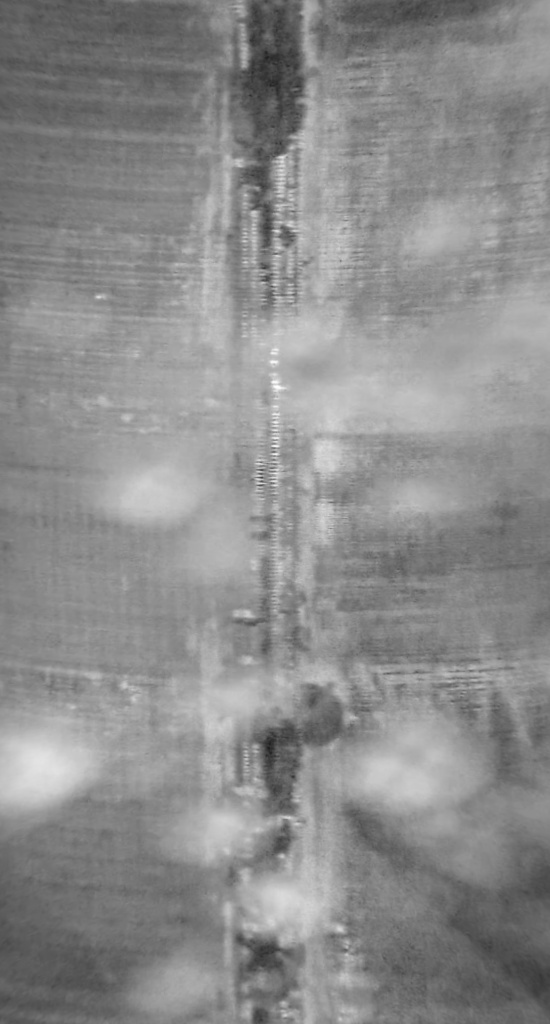splice: (221, 1, 318, 1021)
